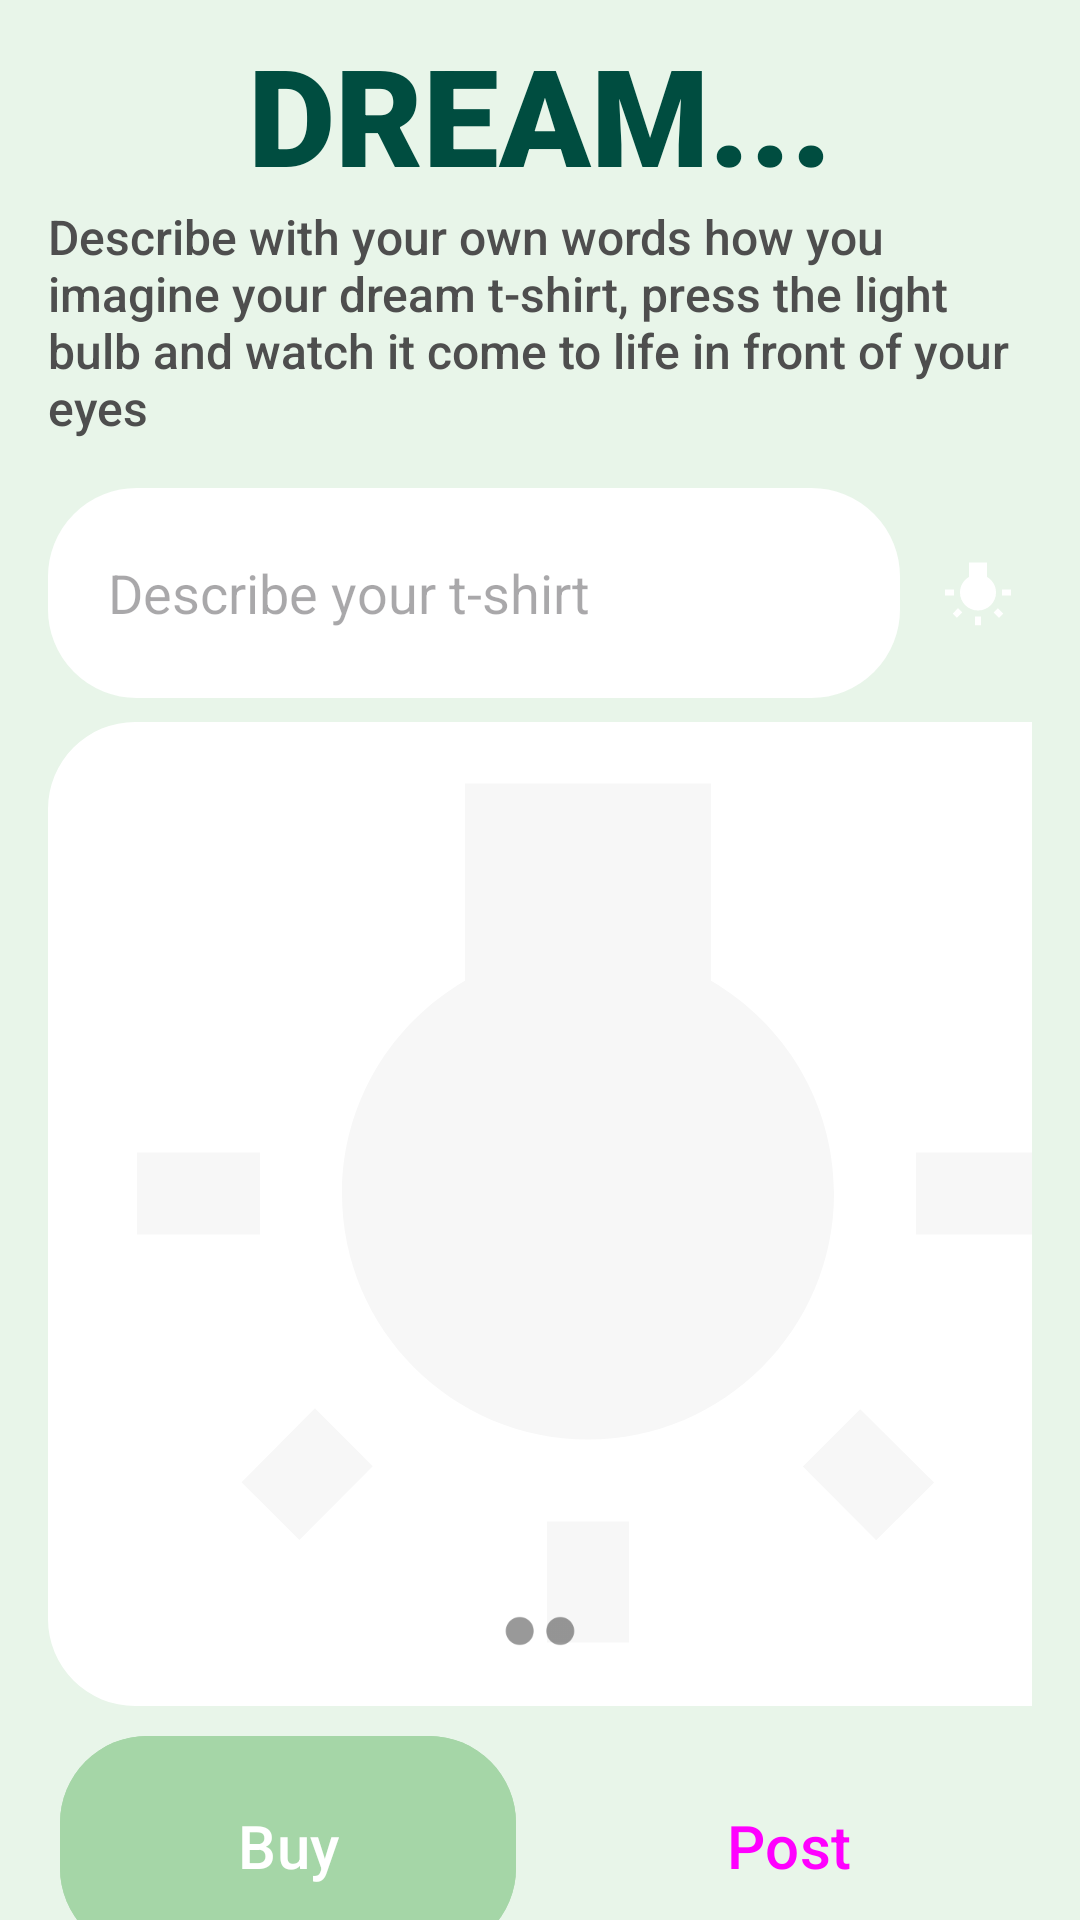

Locate icon controls on the screen. Image size 1080x1920, boxes as [left=x1, top=y1, right=x2, bottom=y2].
twodots: [left=505, top=1617, right=575, bottom=1645]
